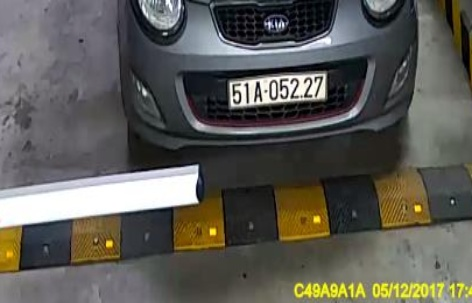plate: (222, 67, 333, 115)
